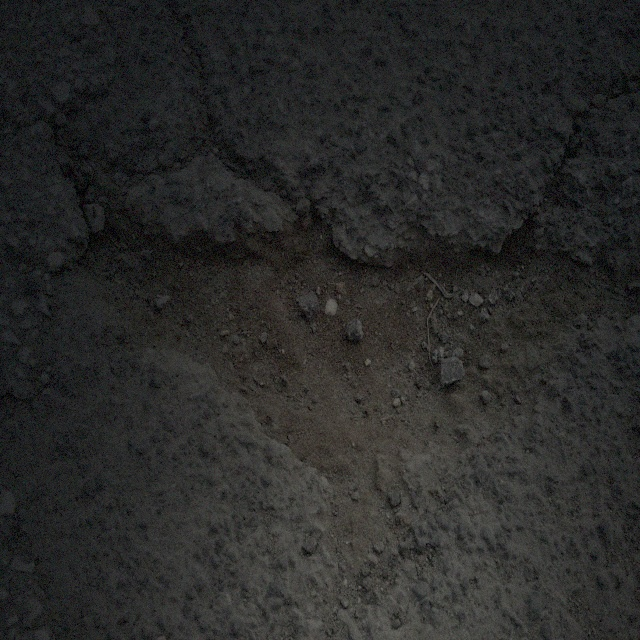pothole: (56, 122, 604, 521)
